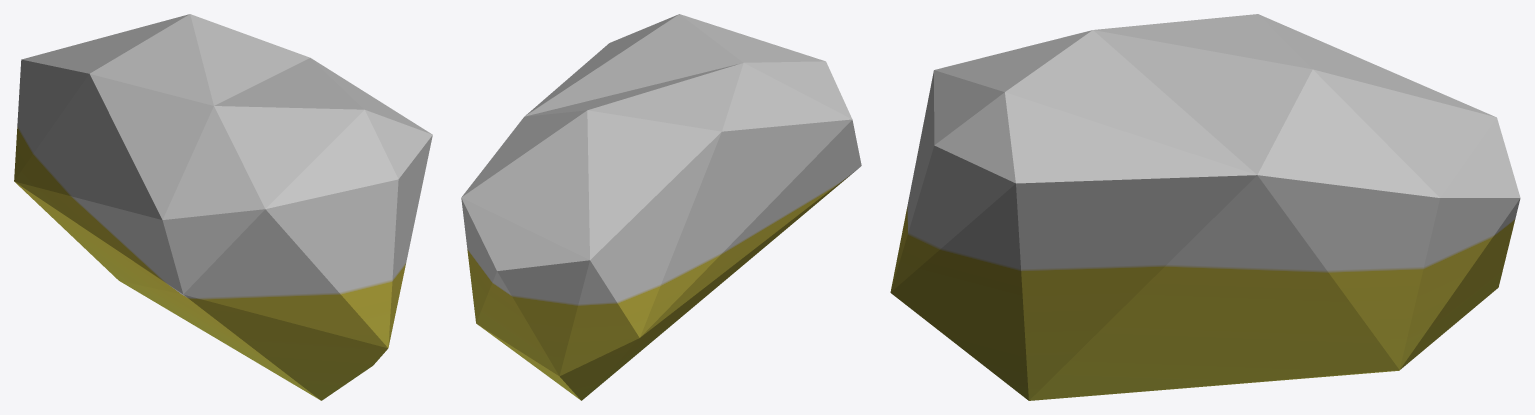
Rendered from BigRock_03.fbx.
The picture shows the model from 3 angles, left to right: view 1: azimuth 30°, elevation 25°; view 2: azimuth 150°, elevation 25°; view 3: azimuth 270°, elevation 25°; orthographic projection. The views are drawn at different scales.
Parts seen in each view (by area): view 1: BigRock_03; view 2: BigRock_03; view 3: BigRock_03.
Boxes of the visible parts, bbox=[...] form: BigRock_03: bbox=[14, 14, 432, 400]; BigRock_03: bbox=[461, 14, 861, 400]; BigRock_03: bbox=[890, 14, 1520, 400].
Bounding box in the file's own units: 3.93 × 4.05 × 7.14.
